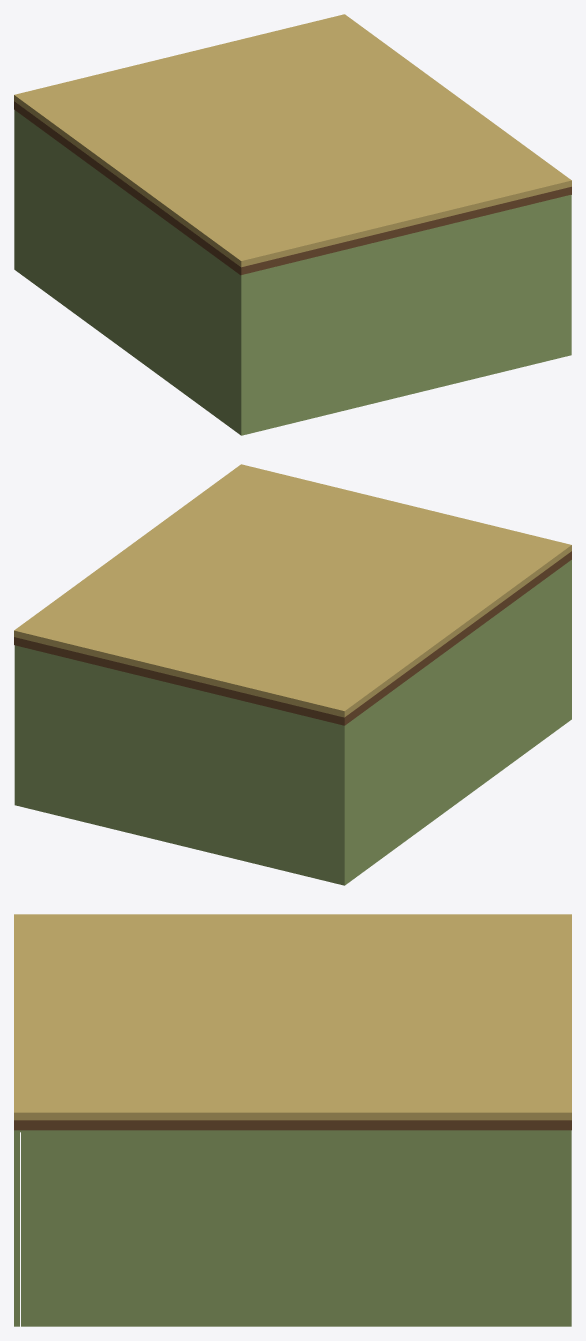
Rendered from class_room_01.glb.
3 renders of one model, top to bottom at view 1: azimuth 30°, elevation 25°; view 2: azimuth 150°, elevation 25°; view 3: azimuth 270°, elevation 25°, orthographic. The views are drawn at different scales.
Visible parts, largest first — view 1: Object_2; view 2: Object_2; view 3: Object_2.
Part boxes in pixels (x1,y1,x2,y2): Object_2: (14, 14, 571, 435); Object_2: (14, 464, 571, 885); Object_2: (14, 914, 571, 1326).
Size of the model in its own units: 21.2 by 10.69 by 25.22.
Materials: 1 (1 with a texture image).
